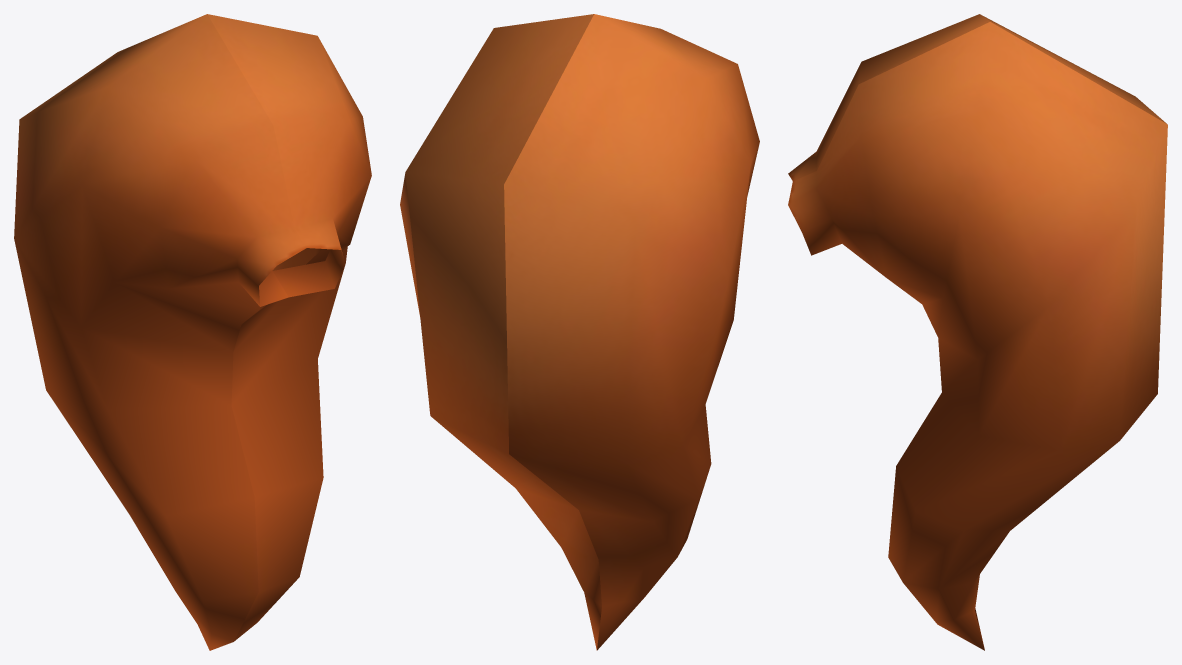
Rendered from hair_ponytail_mesh.fbx.
The picture shows the model from 3 angles, left to right: view 1: azimuth 30°, elevation 25°; view 2: azimuth 150°, elevation 25°; view 3: azimuth 270°, elevation 25°; orthographic projection.
Parts seen in each view (by area): view 1: hair_ponytail_mesh; view 2: hair_ponytail_mesh; view 3: hair_ponytail_mesh.
Boxes of the visible parts, x1,y1,x2,y2 form: hair_ponytail_mesh: (14,14,371,650); hair_ponytail_mesh: (400,14,759,650); hair_ponytail_mesh: (788,14,1167,650).
Bounding box in the file's own units: 16.64 × 31.03 × 16.98.
